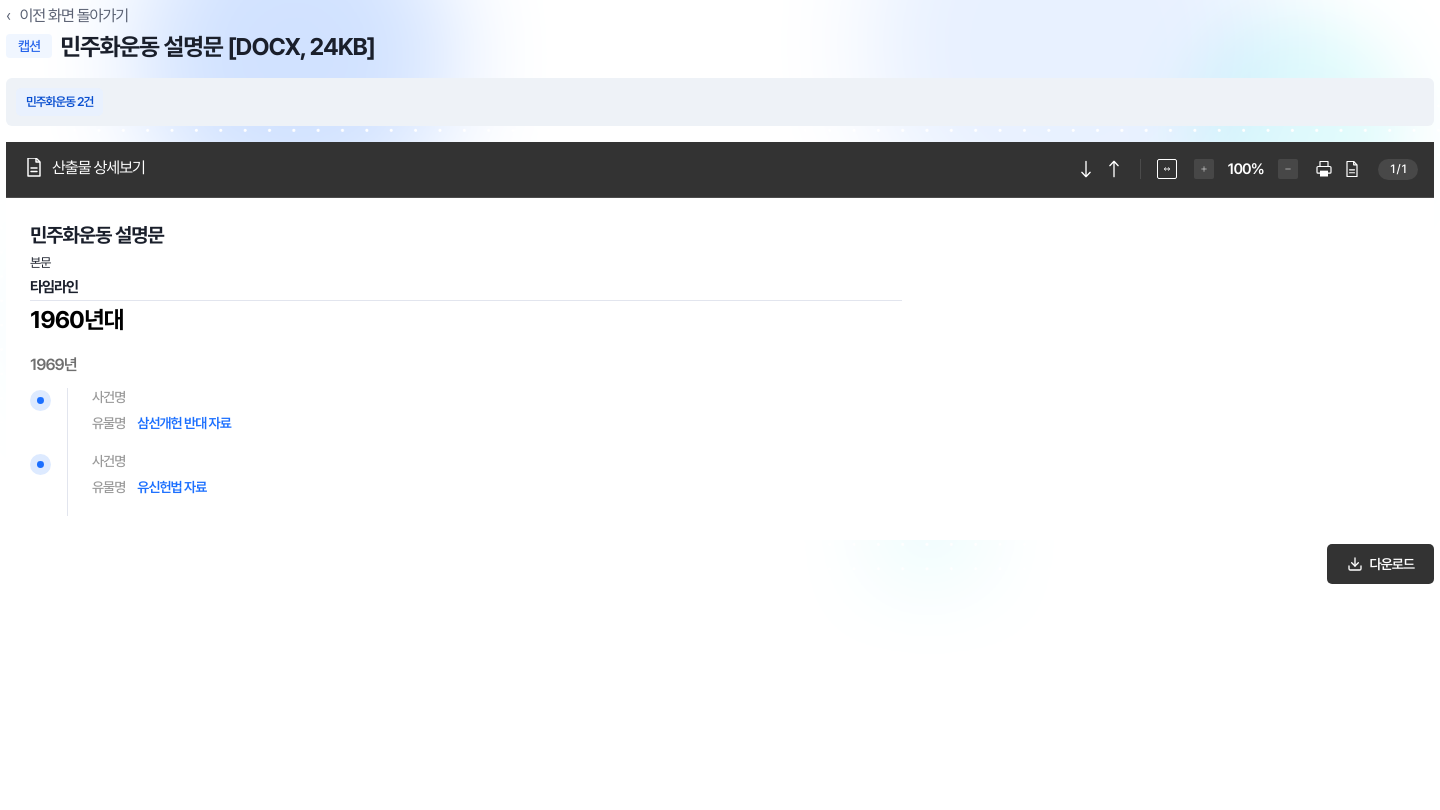
Test: found:false(out_of_range) 면 뷰어는 뜨고 사람 문구가 보인다 — 코드를 그대로 찍지 않는다
What coordinates should you click on to do the following:
click the button "삼선개헌 반대 자료"
I would click on:
 (184, 423)
Its box is [137, 414, 231, 432].
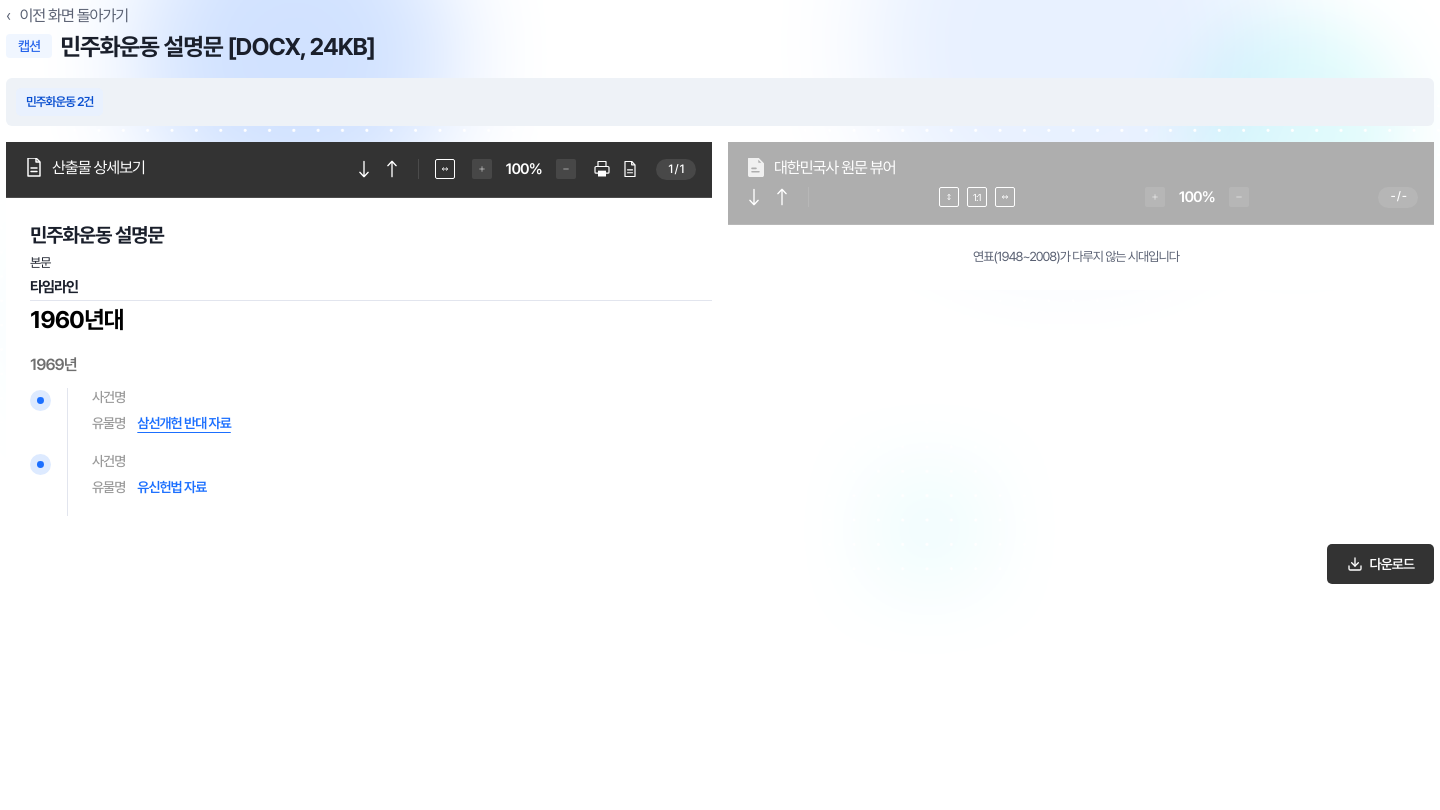
expect the text "대한민국사 원문 뷰어" is shown: met, box [774, 158, 896, 177]
expect the text "연표(1948~2008)가 다루지 않는 시대입니다" is shown: met, box [973, 249, 1179, 264]
